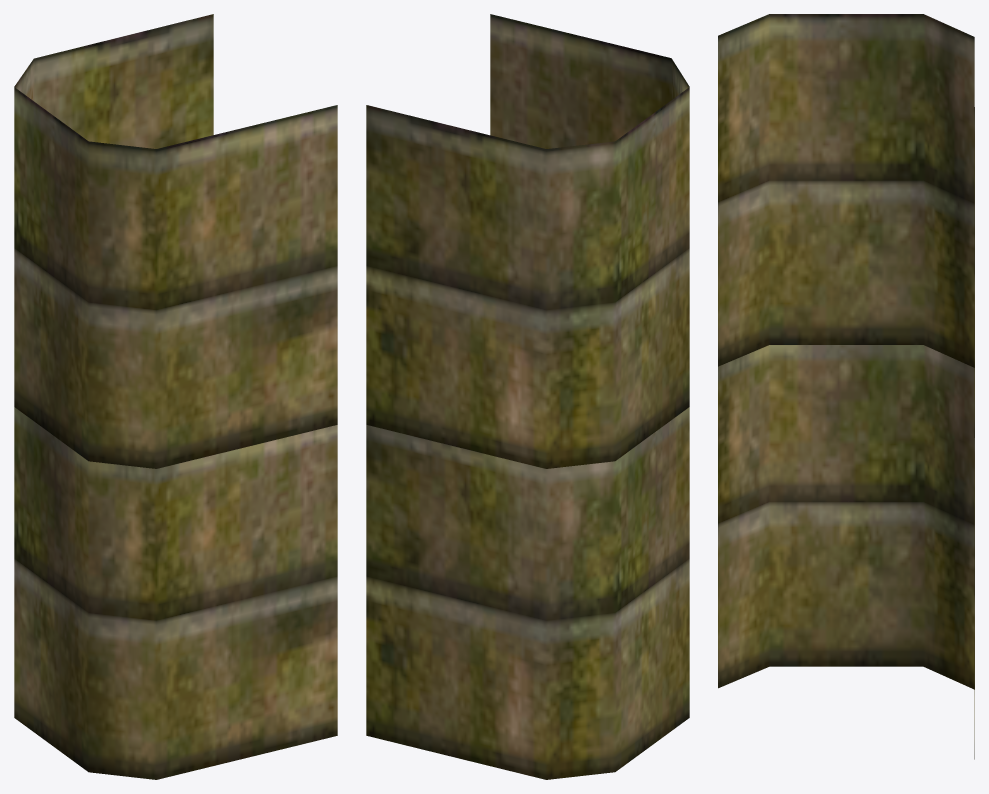
File: OVERHILL_A_01_LINE436.fbx
The picture shows the model from 3 angles, left to right: view 1: azimuth 30°, elevation 25°; view 2: azimuth 150°, elevation 25°; view 3: azimuth 270°, elevation 25°; orthographic projection. The views are drawn at different scales.
Parts seen in each view (by area): view 1: OVERHILL_A_01_LINE436; view 2: OVERHILL_A_01_LINE436; view 3: OVERHILL_A_01_LINE436.
Part boxes in pixels (x1,y1,x2,y2): OVERHILL_A_01_LINE436: (14, 14, 337, 779); OVERHILL_A_01_LINE436: (366, 14, 689, 779); OVERHILL_A_01_LINE436: (718, 14, 974, 759).
Size of the model in its own units: 10021 by 26954 by 9604.
Materials: 1 (1 with a texture image).
